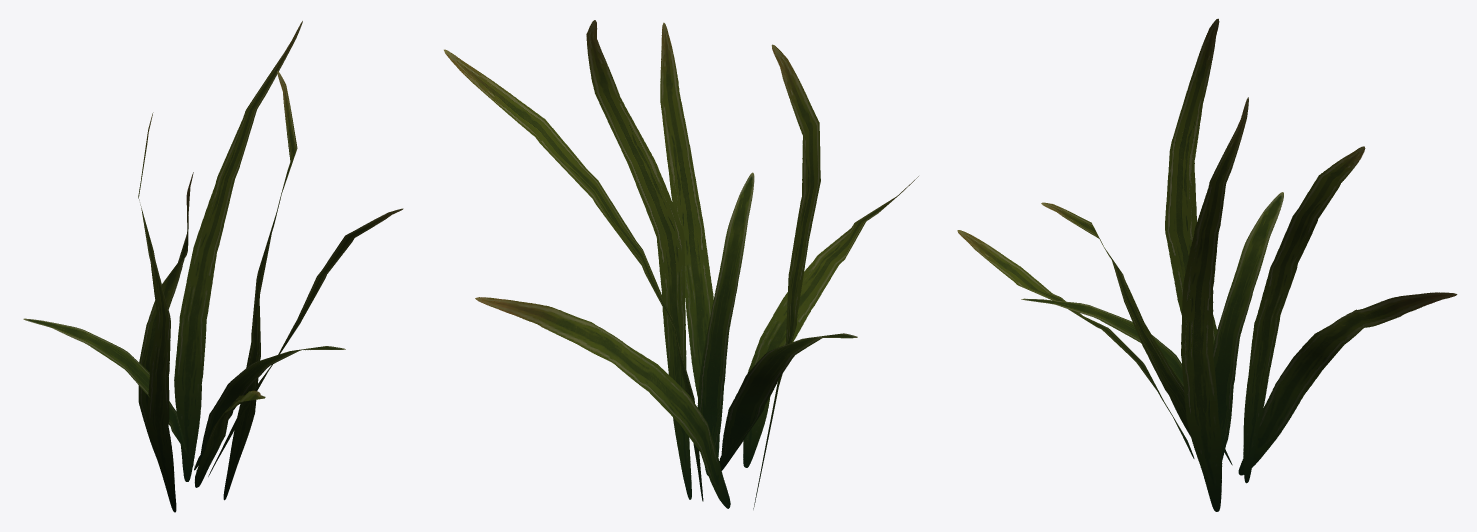
File: Grass_Large_1.fbx
3 views of the same model, side by side, from view 1: azimuth 30°, elevation 25°; view 2: azimuth 150°, elevation 25°; view 3: azimuth 270°, elevation 25° (orthographic). The views are drawn at different scales.
Visible parts, largest first — view 1: Grass_Large_1; view 2: Grass_Large_1; view 3: Grass_Large_1.
Part boxes in pixels (x1,y1,x2,y2): Grass_Large_1: (23, 21, 403, 512); Grass_Large_1: (444, 20, 918, 509); Grass_Large_1: (957, 18, 1457, 511).
Size of the model in its own units: 1.54 by 1.88 by 1.86.
